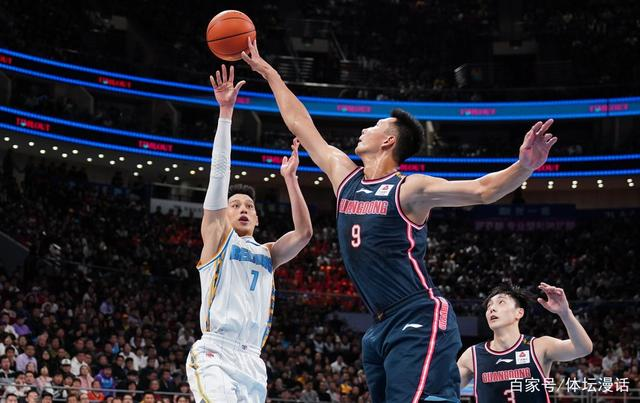ball: (205, 9, 257, 62)
